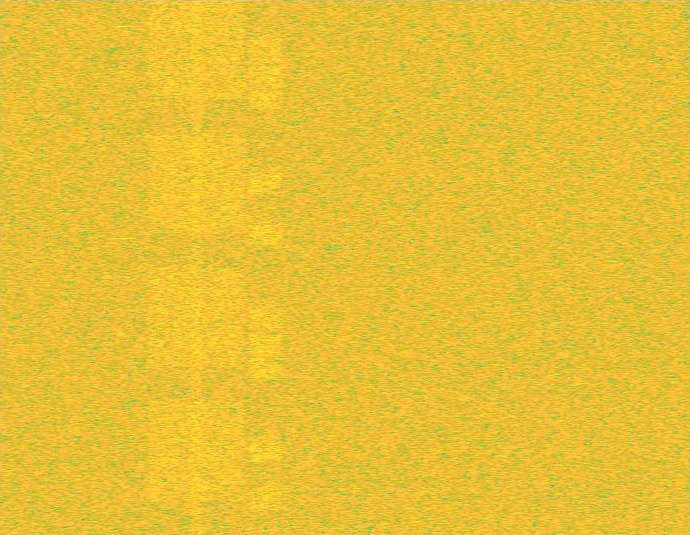5G: (145, 0, 248, 534)
DSSS: (190, 0, 204, 534)
LTE: (248, 0, 283, 534)
Radar: (118, 0, 132, 534)
